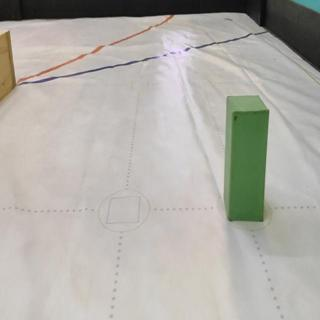greenbox: (224, 93, 269, 221)
